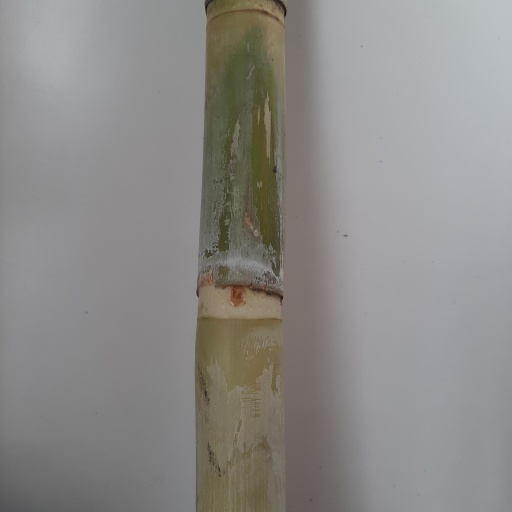Damage_Bud: (229, 285, 247, 310)
